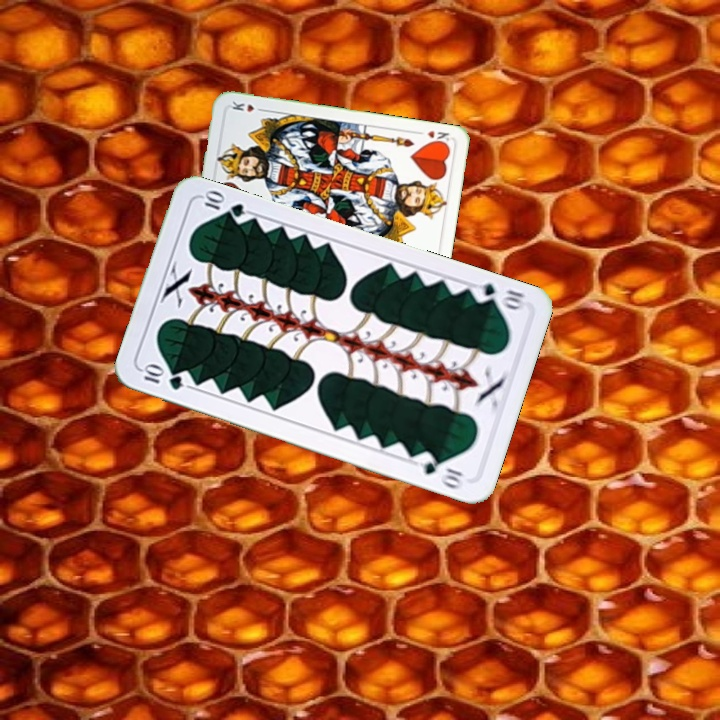G10: (468, 279, 528, 313), (138, 361, 186, 393)
HK: (413, 126, 452, 147)
